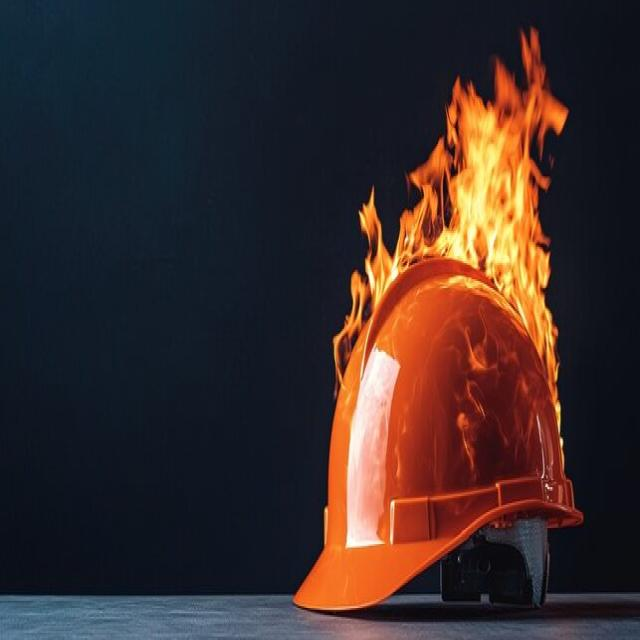fire: (353, 61, 568, 272)
